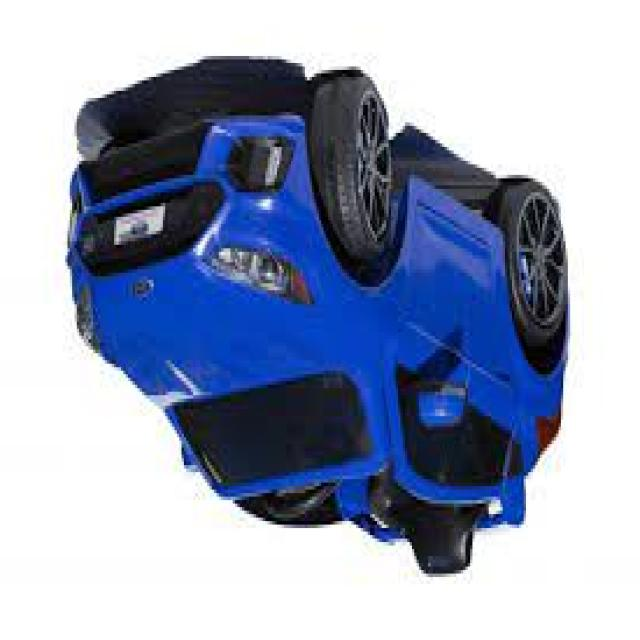Car: (68, 70, 572, 570)
